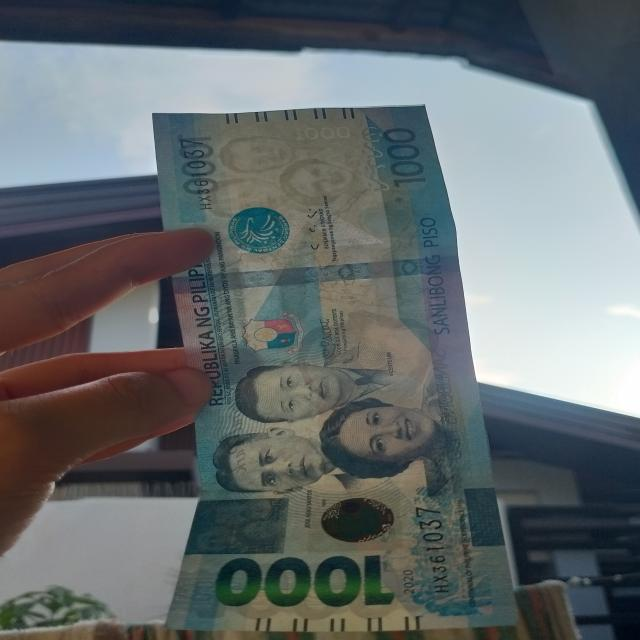concealed_value: (179, 495, 289, 555)
optically_variable_device: (302, 486, 407, 554)
security_thread: (173, 254, 462, 294)
see_through_mark: (353, 118, 396, 199)
serial_number: (410, 502, 466, 598)
value_watermark: (282, 122, 354, 145)
watermark: (207, 131, 385, 227)
